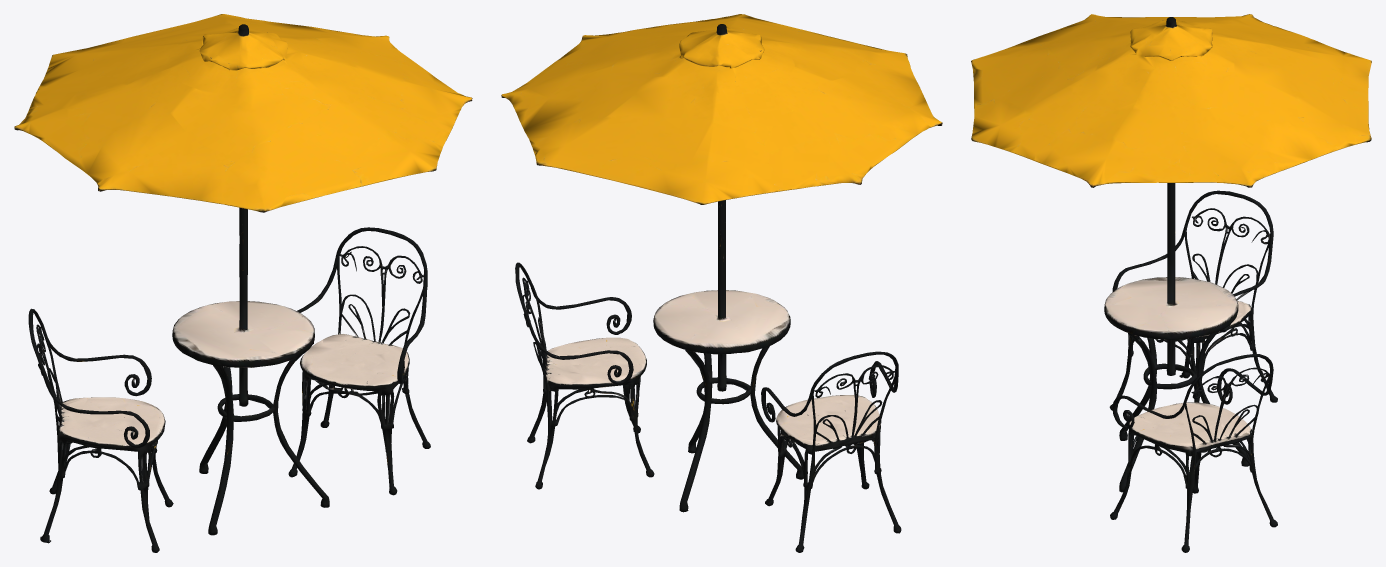
File: bistro-set.glb
3 views of the same model, side by side, from view 1: azimuth 30°, elevation 25°; view 2: azimuth 150°, elevation 25°; view 3: azimuth 270°, elevation 25° (orthographic). The views are drawn at different scales.
Size of the model in its own units: 1.63 by 1.9 by 1.54.
Materials: 1 (1 with a texture image).
